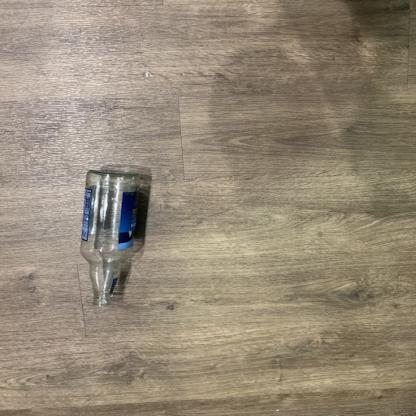trash: (81, 170, 138, 310)
